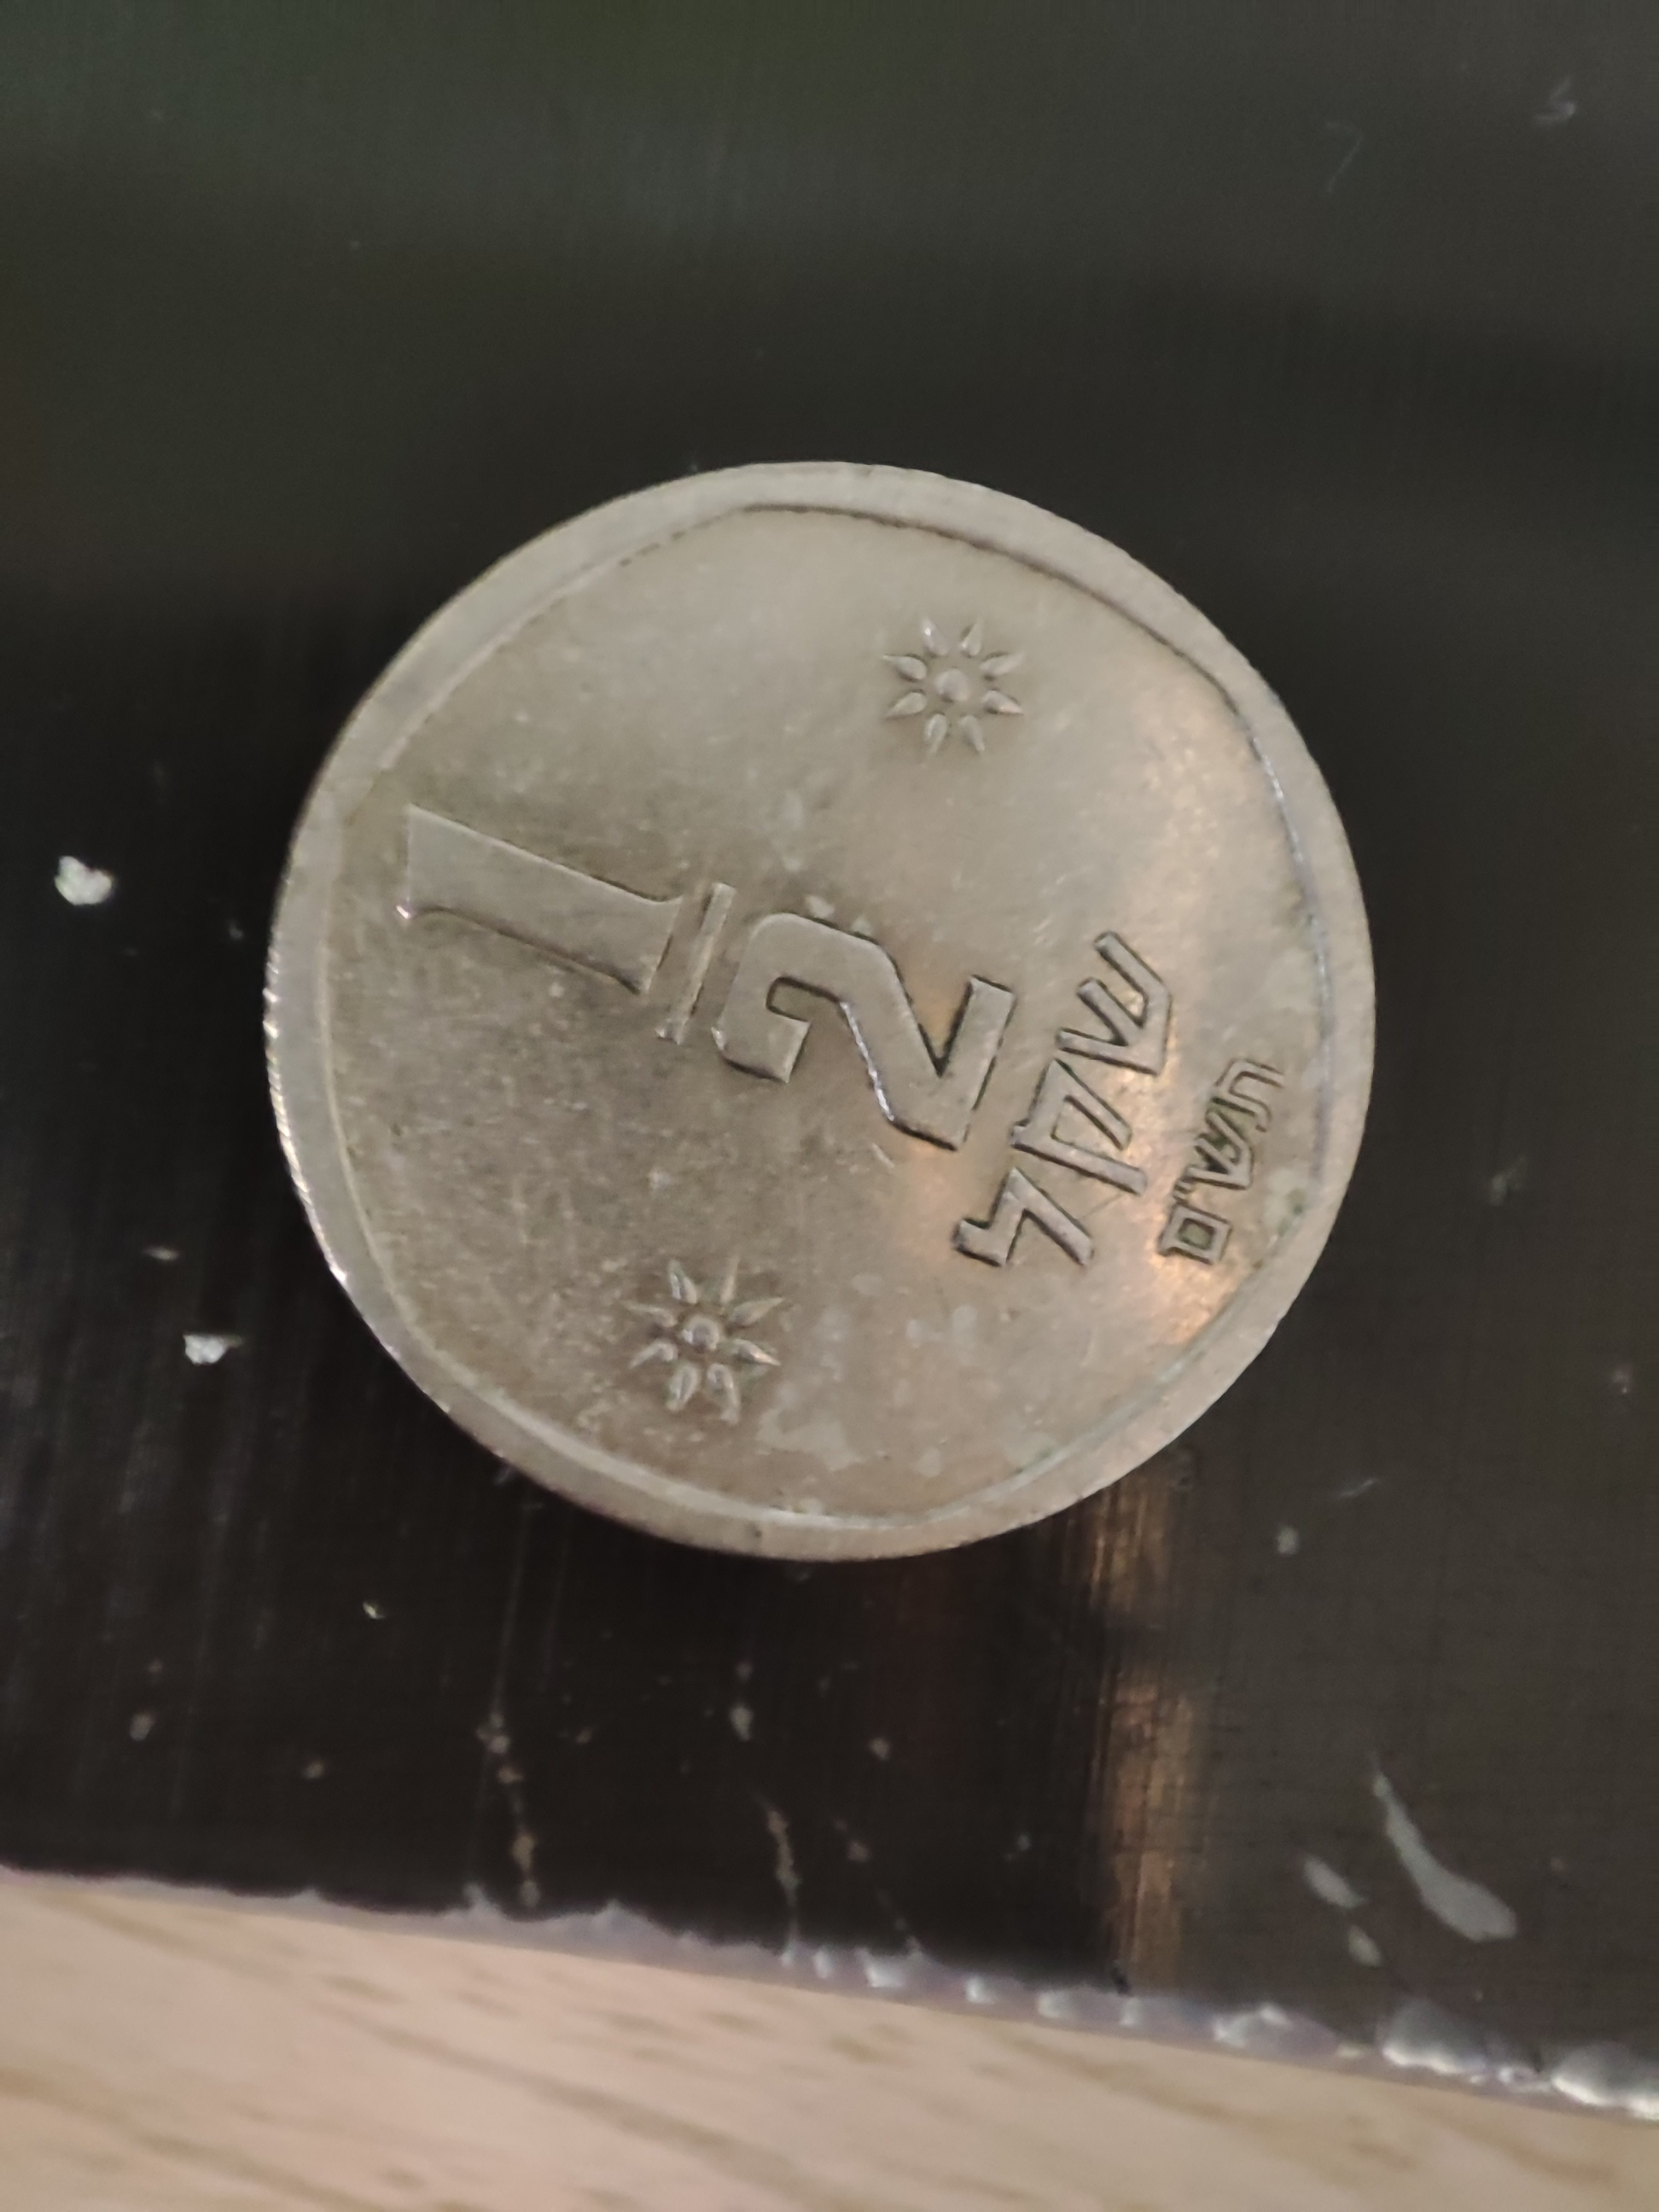1/2 old sheqel: (254, 455, 1384, 1569)
